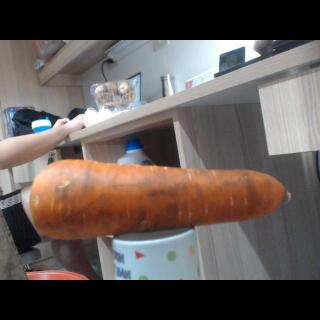carrot: (28, 158, 290, 241)
